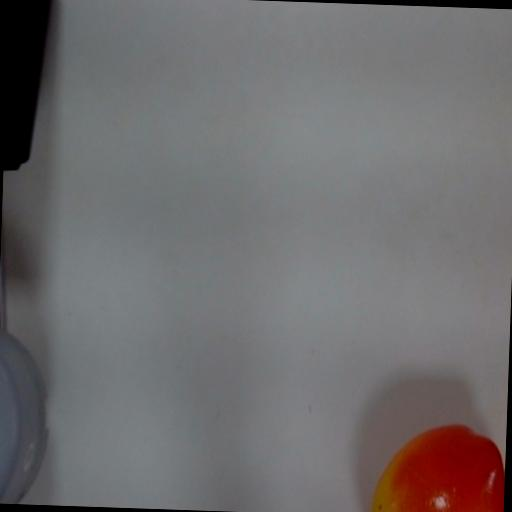Ripe: (367, 423, 505, 512)
